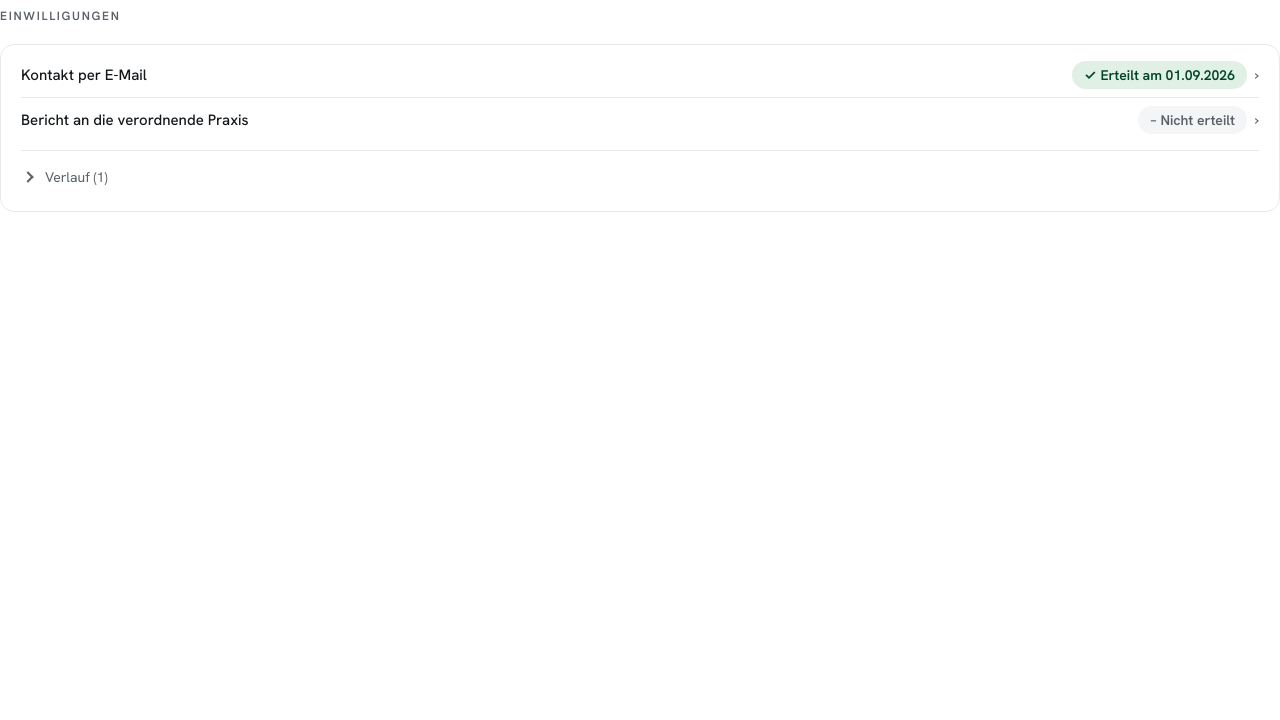
it: Datenschutz der Akte › bietet nach einer Erteilung den Widerruf an und nicht die zweite Erteilung
This screenshot has width=1280, height=720.
Expected: the text "Erteilt am 01.09.2026" is shown, [1072,61,1247,89]
What coordinates should you click on to do the following:
click the button "Kontakt per E-Mail ✓ Erteilt am 01.09.2026 ›"
I would click on:
 (84, 75)
Its box is [13,53,1267,97].
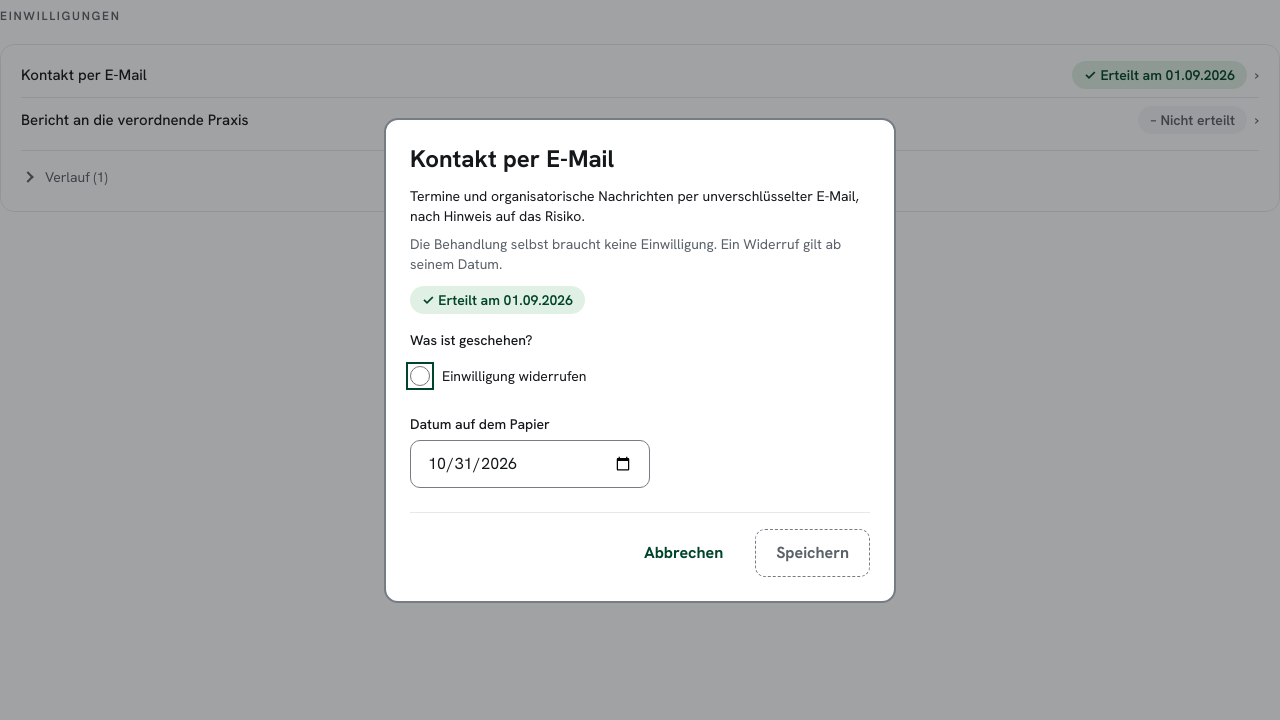
Result: the radio button labelled "Einwilligung widerrufen" is shown at [410,366,430,386]
